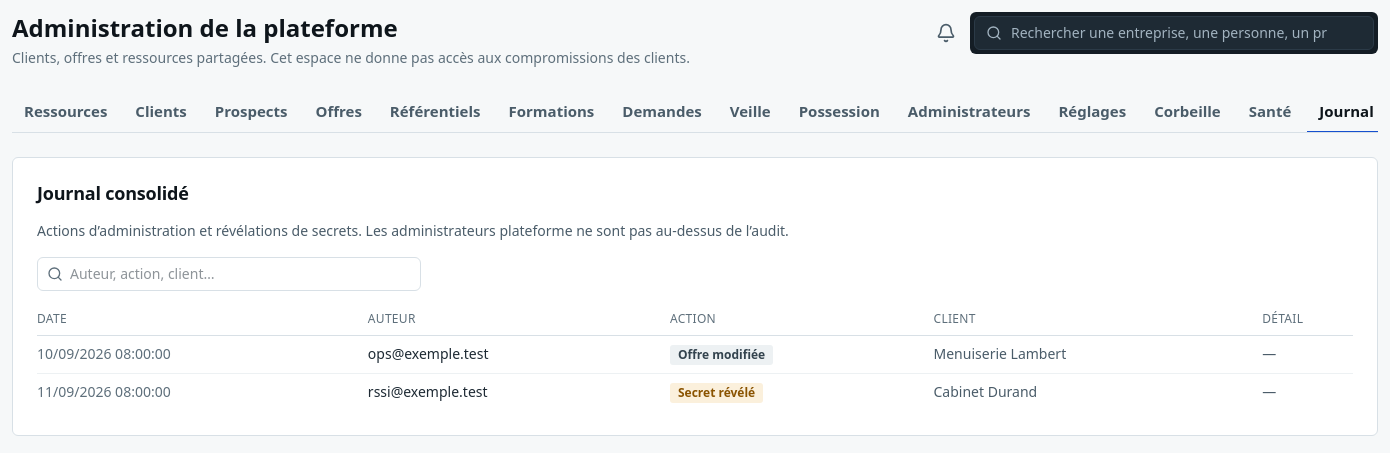
Test: PlatformAdminPage › cherche dans le journal par auteur, action ou client
Type "revele" into the search field named "Rechercher dans le journal".
click(229, 274); type("revele")  # box [37, 257, 421, 291]
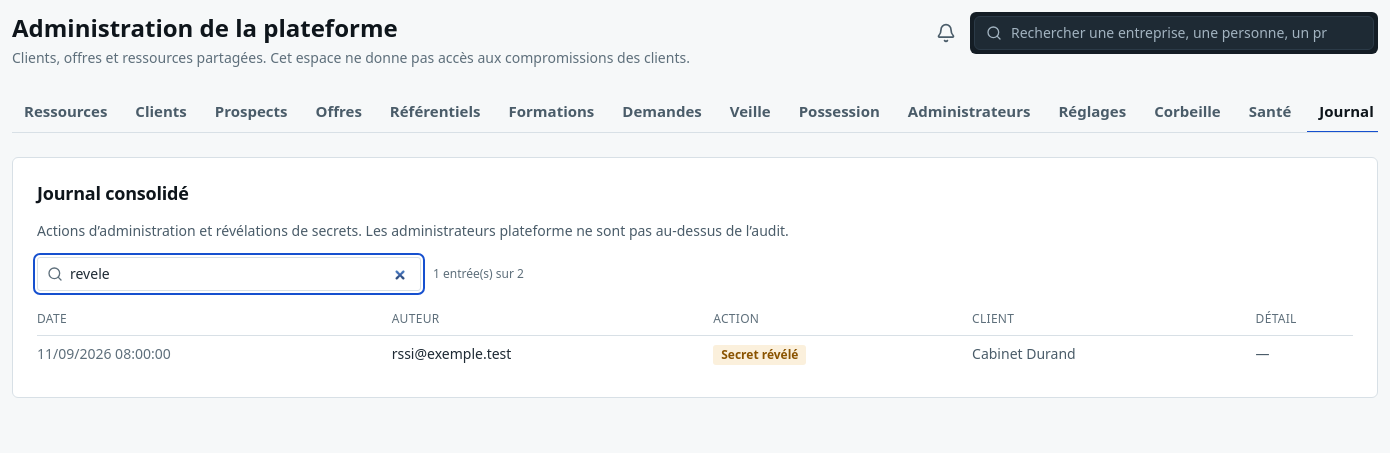
Expected: the text "Cabinet Durand" is shown, [972, 335, 1256, 373]
Expected: the text "Offre modifiée" is gone
Expected: the text "1 entrée(s) sur 2" is shown, [433, 266, 524, 282]
